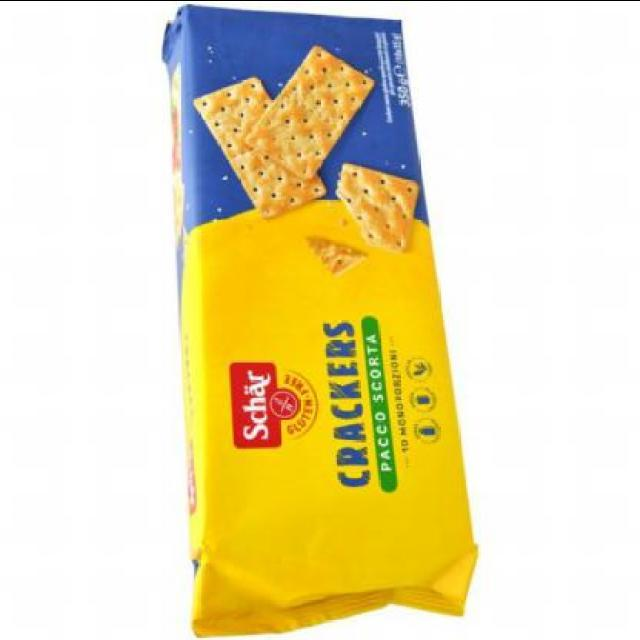Cracker: (168, 1, 474, 634)
